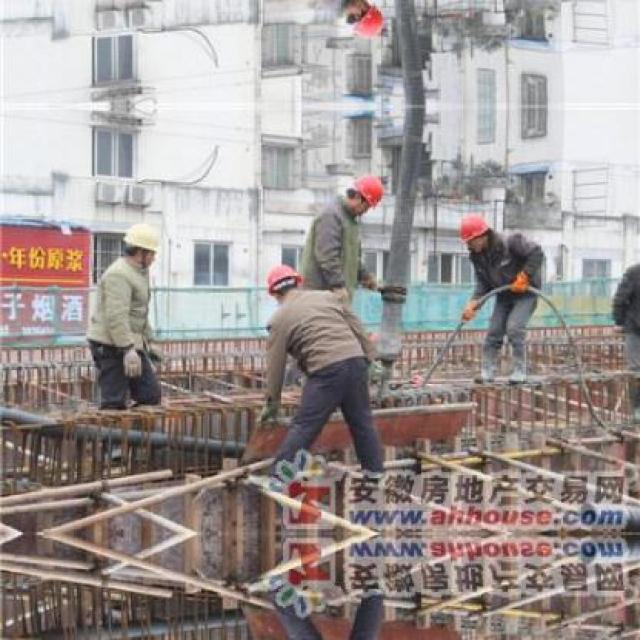helmet: (120, 218, 160, 266), (456, 208, 496, 256), (261, 260, 302, 306), (343, 172, 386, 212), (343, 0, 386, 40)
